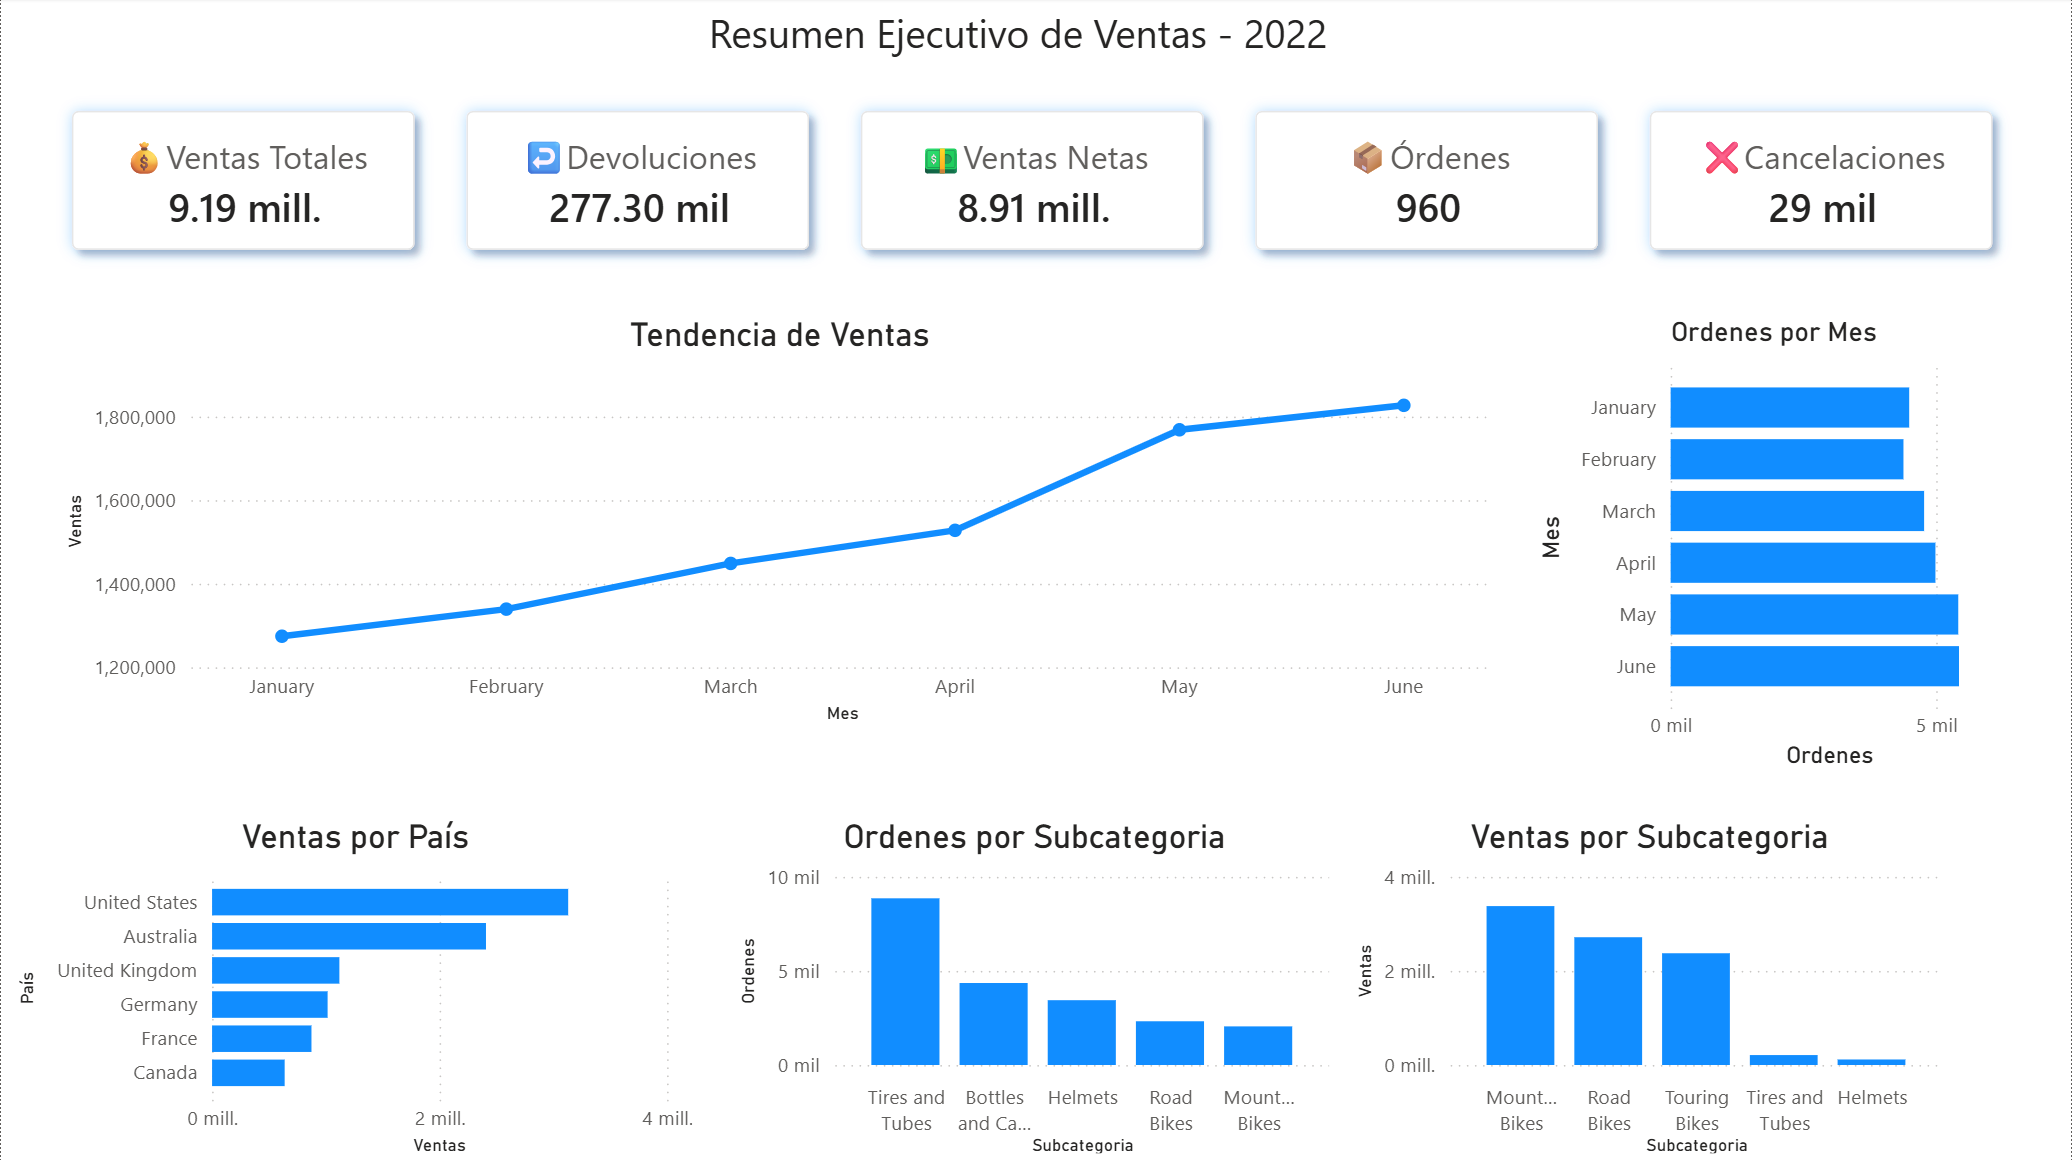

Layout of this report page (visuals, bound fields, positions):
{"tool":"powerbi","page":{"name":"Año 2022","canvas":[1280,720],"ordinal":3},"visuals":[{"type":"cardVisual","fields":{"Data":["Sum(Total_de_ventas_2022.ventas_2022)","Sum(Total_de_devoluciones_2022.Total_de_devolucion)","Sum(Total_de_ventas_menos_devoluciones_2022.ventas_2022)","Sum(Devoluciones_2022.Devoluciones_2022)","Sum(Ventas_realizadas_en_2022.Ventas_realizadas_en_2022)"]},"box":[15.1,40.6,1249.2,144.6],"z":0},{"type":"lineChart","title":"Tendencia de Ventas","fields":{"Category":["Total_de_ventas_por_mes_2022.Mes"],"Y":["select","Sum(Total_de_ventas_por_mes_2022.Ventas)"]},"box":[35.3,196.1,893,256.9],"z":1000},{"type":"barChart","title":"Ventas por País","fields":{"Category":["Total_por_pais_2022.Country"],"Y":["Sum(Total_por_pais_2022.Ventas)"]},"box":[5.6,506.6,427.4,213.4],"z":2000},{"type":"clusteredColumnChart","title":"Ordenes por Subcategoria","fields":{"Y":["Sum(Numero_de_Ordenes_por_Subcategoria_2022.ordenes_por_subcategoria)"],"Category":["Numero_de_Ordenes_por_Subcategoria_2022.SubcategoryName"]},"box":[451.5,506.6,375.5,213.4],"z":3000},{"type":"columnChart","fields":{"Y":["Sum(Total_por_subcategoria_2022.Total_por_subcategoria)"],"Category":["Total_por_subcategoria_2022.SubcategoryName"]},"box":[833.2,506.6,373,213.4],"z":4000},{"type":"textbox","box":[432.8,0,400.4,45.7],"z":5000},{"type":"barChart","title":"Ordenes por Mes","fields":{"Category":["Numero_de_ordenes_por_mes_2022.monthname(OrderDate)"],"Y":["Sum(Numero_de_ordenes_por_mes_2022.count(OrderNumber))","select"]},"box":[945.6,196,302.1,285.2],"z":6000}]}

Visuals, with their boxes in screenshot pixels (x1, y1, x2, y2), scaled from the page's 1280x720 canvas onto the 2072x1160 screenshot:
cardVisual - Sum(Total_de_ventas_2022.ventas_2022) x Sum(Total_de_devoluciones_2022.Total_de_devolucion): left=24, top=65, right=2047, bottom=298
"Tendencia de Ventas" lineChart: left=57, top=316, right=1503, bottom=730
"Ventas por País" barChart: left=9, top=816, right=701, bottom=1159
"Ordenes por Subcategoria" clusteredColumnChart: left=731, top=816, right=1339, bottom=1159
columnChart - Sum(Total_por_subcategoria_2022.Total_por_subcategoria) x Total_por_subcategoria_2022.SubcategoryName: left=1349, top=816, right=1953, bottom=1159
textbox: left=701, top=0, right=1349, bottom=74
"Ordenes por Mes" barChart: left=1531, top=316, right=2020, bottom=775
